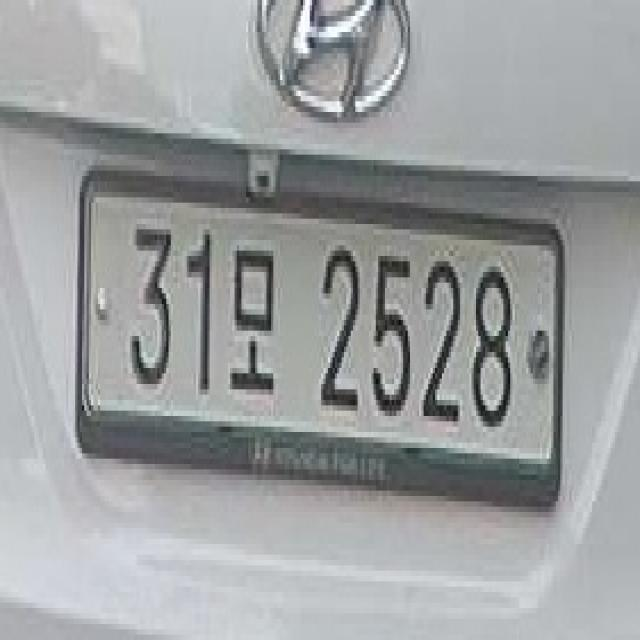1: (184, 229, 217, 411)
2: (414, 250, 462, 427), (317, 240, 362, 416)
3: (132, 218, 178, 394)
5: (369, 240, 414, 416)
8: (472, 261, 512, 432)
license_plate: (77, 176, 565, 501)
mo: (228, 234, 276, 394)
